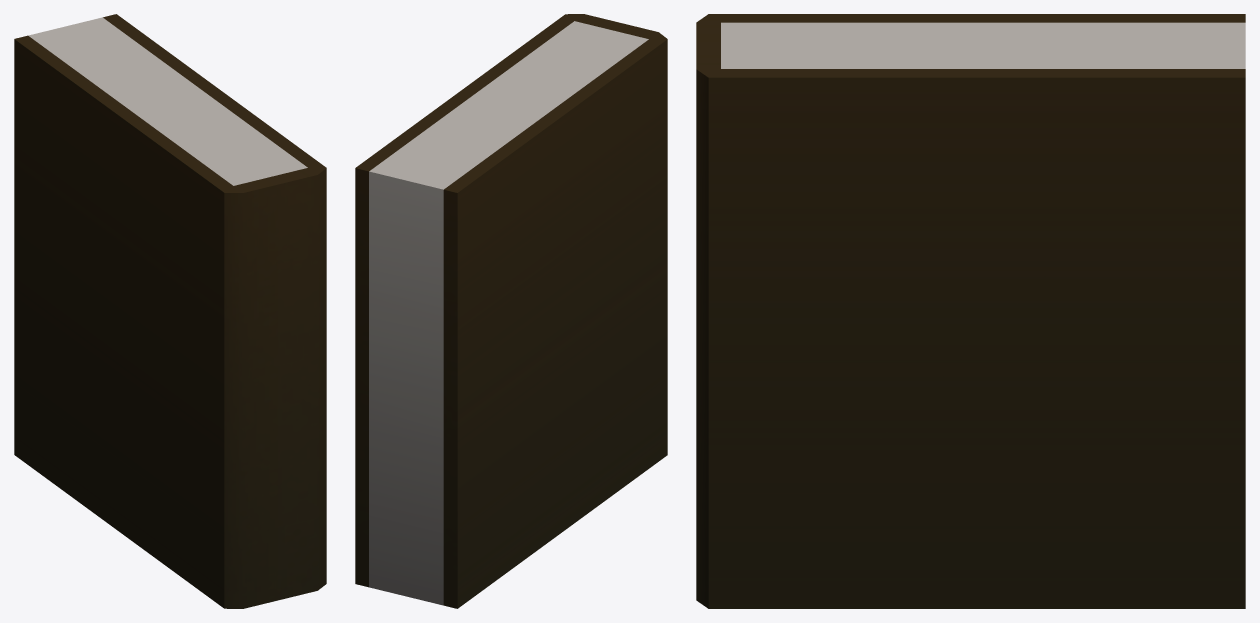
File: Book_A.fbx
3 views of the same model, side by side, from view 1: azimuth 30°, elevation 25°; view 2: azimuth 150°, elevation 25°; view 3: azimuth 270°, elevation 25° (orthographic). The views are drawn at different scales.
Visible parts, largest first — view 1: Book_A; view 2: Book_A; view 3: Book_A.
Boxes of the visible parts, x1=… form: Book_A: x1=14, y1=14, x2=326, y2=608; Book_A: x1=355, y1=14, x2=667, y2=608; Book_A: x1=696, y1=14, x2=1245, y2=608.
Bounding box in the file's own units: 4.84 × 18.79 × 17.62.
